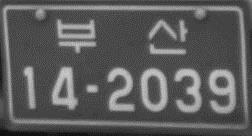-: (82, 80, 102, 96)
0: (138, 66, 168, 114)
1: (20, 62, 41, 111)
2: (105, 64, 137, 114)
3: (173, 66, 202, 114)
4: (49, 63, 81, 114)
9: (207, 68, 238, 114)
부산_D: (53, 14, 190, 58)
